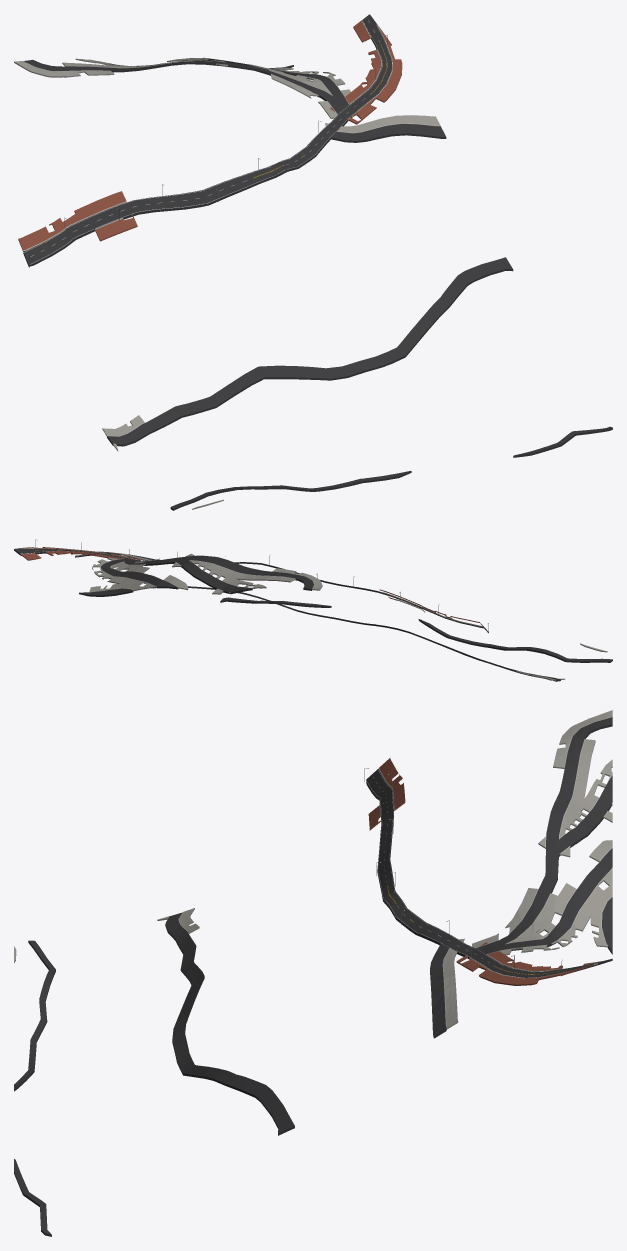
Rendered from 17-109469-59482.9bbff2e9.glb.
3 views of the same model, one above another, from view 1: azimuth 30°, elevation 25°; view 2: azimuth 150°, elevation 25°; view 3: azimuth 270°, elevation 25° (orthographic). The views are drawn at different scales.
Bounding box in the file's own units: 294 × 174 × 292.
